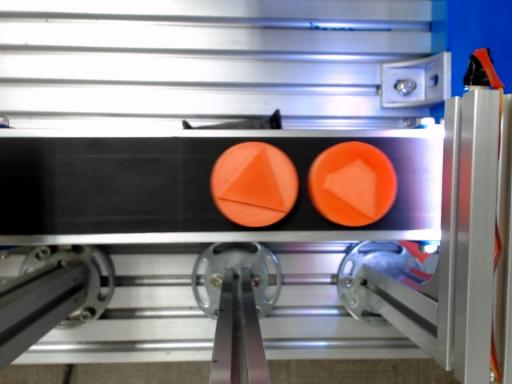Orange_Waper: (210, 142, 298, 226), (310, 142, 398, 226)
